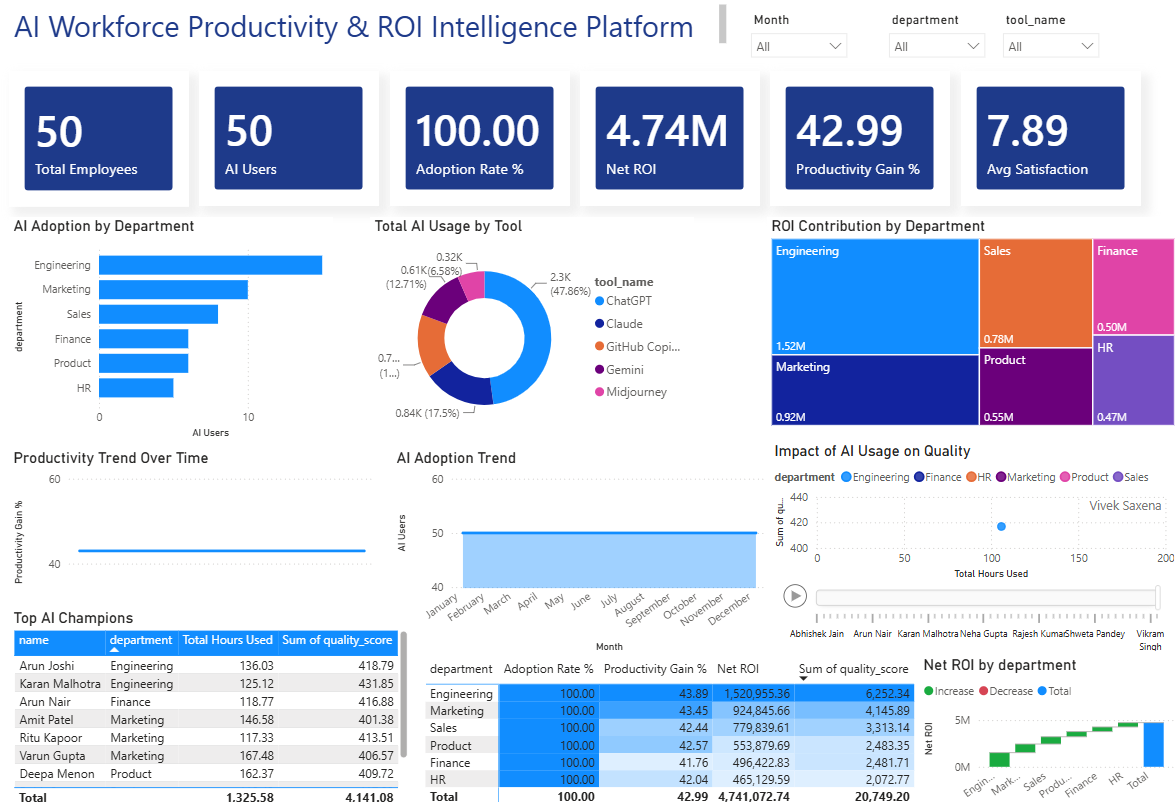

The page's visual inventory and layout, read from the dashboard file:
{"tool":"powerbi","page":{"name":"AI_ROI_Dashboard","canvas":[1310,900],"ordinal":0},"visuals":[{"type":"textbox","box":[9.7,0,802.4,61.3],"z":0},{"type":"cardVisual","fields":{"Data":["roischema employees.Total Employees"]},"box":[9.7,79.2,200,150.7],"z":1000},{"type":"slicer","fields":{"Values":["roischema daily_usage_logs.usage_date.Variation.Date Hierarchy.Month"]},"box":[825,8.7,126.6,73.4],"z":2000},{"type":"cardVisual","fields":{"Data":["roischema employees.AI Users"]},"box":[221.2,79.2,200,149.7],"z":3000},{"type":"slicer","fields":{"Values":["roischema employees.department"]},"box":[977.6,8.7,126.6,58.9],"z":4000},{"type":"cardVisual","fields":{"Data":["roischema employees.Adoption Rate %"]},"box":[432.8,79.2,200,149.7],"z":5000},{"type":"slicer","fields":{"Values":["roischema ai_tools.tool_name"]},"box":[1104.2,8.7,126.6,58.9],"z":6000},{"type":"cardVisual","fields":{"Data":["roischema cost_tracking.Net ROI"]},"box":[644.3,79.2,200,149.7],"z":7000},{"type":"cardVisual","fields":{"Data":["roischema productivity_metrics.Productivity Gain %"]},"box":[855.9,79.2,200,149.7],"z":8000},{"type":"cardVisual","fields":{"Data":["roischema employee_feedback.Avg Satisfaction"]},"box":[1067.5,79.2,200,149.7],"z":9000},{"type":"clusteredBarChart","title":"AI Adoption by Department","fields":{"Y":["roischema employees.AI Users"],"Category":["roischema employees.department"]},"box":[9.7,241.5,360,250],"z":10000},{"type":"donutChart","title":"Total AI Usage by Tool","fields":{"Category":["roischema ai_tools.tool_name"],"Y":["roischema daily_usage_logs.Total Hours Used"]},"box":[410.6,241.5,360.3,250.2],"z":11000},{"type":"treemap","title":"ROI Contribution by Department","fields":{"Group":["roischema employees.department"],"Values":["roischema cost_tracking.Net ROI"]},"box":[852.2,241.1,457.8,236.7],"z":12000},{"type":"lineChart","title":"Productivity Trend Over Time","fields":{"Category":["roischema daily_usage_logs.usage_date.Variation.Date Hierarchy.Month"],"Y":["roischema productivity_metrics.Productivity Gain %"]},"box":[10,499.1,411.2,251.5],"z":13000},{"type":"areaChart","title":"AI Adoption Trend","fields":{"Category":["roischema daily_usage_logs.usage_date.Variation.Date Hierarchy.Month"],"Y":["roischema employees.AI Users"]},"box":[435.2,499.1,421.2,230.6],"z":14000},{"type":"scatterChart","title":"Impact of AI Usage on Quality","fields":{"X":["roischema daily_usage_logs.Total Hours Used"],"Y":["Sum(roischema productivity_metrics.quality_score)"],"Play":["roischema employees.name"],"Series":["roischema employees.department"]},"box":[855.6,491.1,454.4,236.7],"z":15000},{"type":"pivotTable","fields":{"Rows":["roischema employees.department"],"Values":["roischema employees.Adoption Rate %","roischema productivity_metrics.Productivity Gain %","roischema cost_tracking.Net ROI","Sum(roischema productivity_metrics.quality_score)"]},"box":[467.8,727.8,553.3,172.2],"z":16000},{"type":"tableEx","title":"Top AI Champions","fields":{"Values":["roischema employees.name","roischema employees.department","roischema daily_usage_logs.Total Hours Used","Sum(roischema productivity_metrics.quality_score)"]},"box":[9.8,676.8,447.5,223.1],"z":17000},{"type":"waterfallChart","fields":{"Category":["roischema employees.department"],"Y":["roischema cost_tracking.Net ROI"]},"box":[1021.1,728.9,288.9,171.1],"z":17001}]}

Visuals, with their boxes in screenshot pixels (x1, y1, x2, y2), scaled from the page's 1310x900 canvas onto the 1176x802 screenshot:
textbox: 9,0,729,55
cardVisual - roischema employees.Total Employees: 9,71,188,205
slicer - roischema daily_usage_logs.usage_date.Variation.Date Hierarchy.Month: 741,8,854,73
cardVisual - roischema employees.AI Users: 199,71,378,204
slicer - roischema employees.department: 878,8,991,60
cardVisual - roischema employees.Adoption Rate %: 389,71,568,204
slicer - roischema ai_tools.tool_name: 991,8,1105,60
cardVisual - roischema cost_tracking.Net ROI: 578,71,758,204
cardVisual - roischema productivity_metrics.Productivity Gain %: 768,71,948,204
cardVisual - roischema employee_feedback.Avg Satisfaction: 958,71,1138,204
"AI Adoption by Department" clusteredBarChart: 9,215,332,438
"Total AI Usage by Tool" donutChart: 369,215,692,438
"ROI Contribution by Department" treemap: 765,215,1175,426
"Productivity Trend Over Time" lineChart: 9,445,378,669
"AI Adoption Trend" areaChart: 391,445,769,650
"Impact of AI Usage on Quality" scatterChart: 768,438,1175,649
pivotTable - roischema employees.department x roischema employees.Adoption Rate %: 420,649,917,801
"Top AI Champions" tableEx: 9,603,411,801
waterfallChart - roischema employees.department x roischema cost_tracking.Net ROI: 917,650,1175,801
